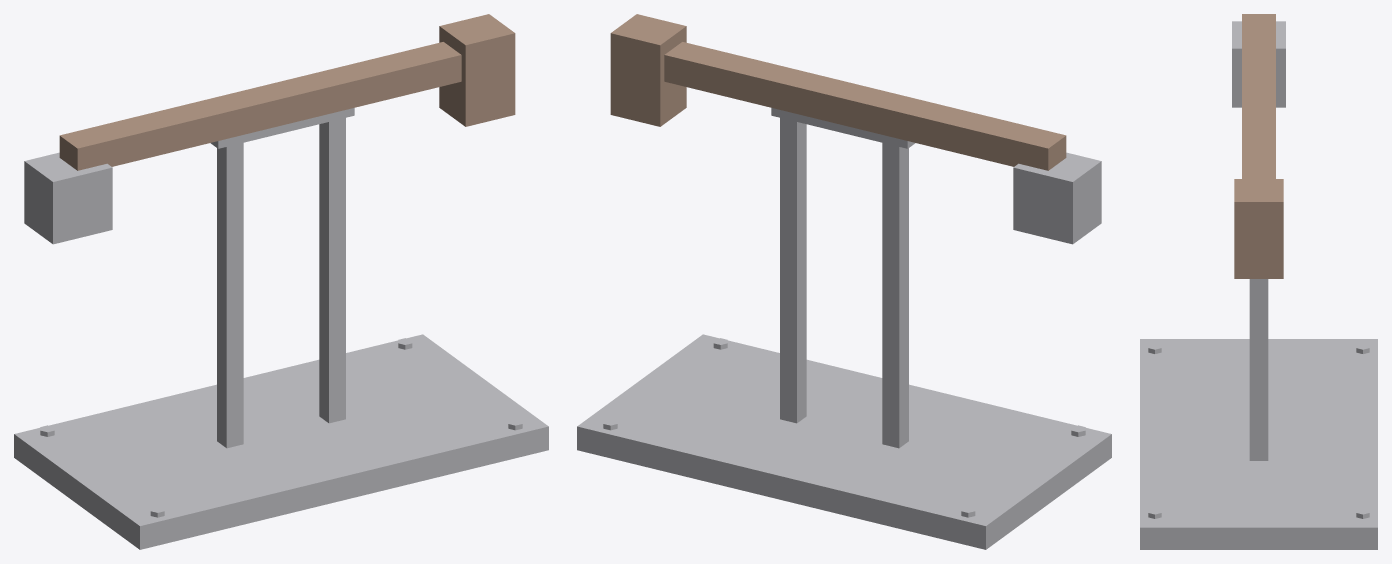
Rendered from pump_jack_common.glb.
The picture shows the model from 3 angles, left to right: view 1: azimuth 30°, elevation 25°; view 2: azimuth 150°, elevation 25°; view 3: azimuth 270°, elevation 25°; orthographic projection. The views are drawn at different scales.
Visible parts, largest first — view 1: pump_jack, beam; view 2: pump_jack, beam; view 3: pump_jack, beam.
Part boxes in pixels (box(x1,y1,x2,y2)): pump_jack: box(14, 14, 548, 549); beam: box(59, 42, 461, 170); pump_jack: box(577, 14, 1111, 549); beam: box(664, 42, 1066, 170); pump_jack: box(1140, 21, 1377, 549); beam: box(1242, 14, 1275, 178).
Size of the model in its own units: 3.26 by 2.54 by 1.54.
